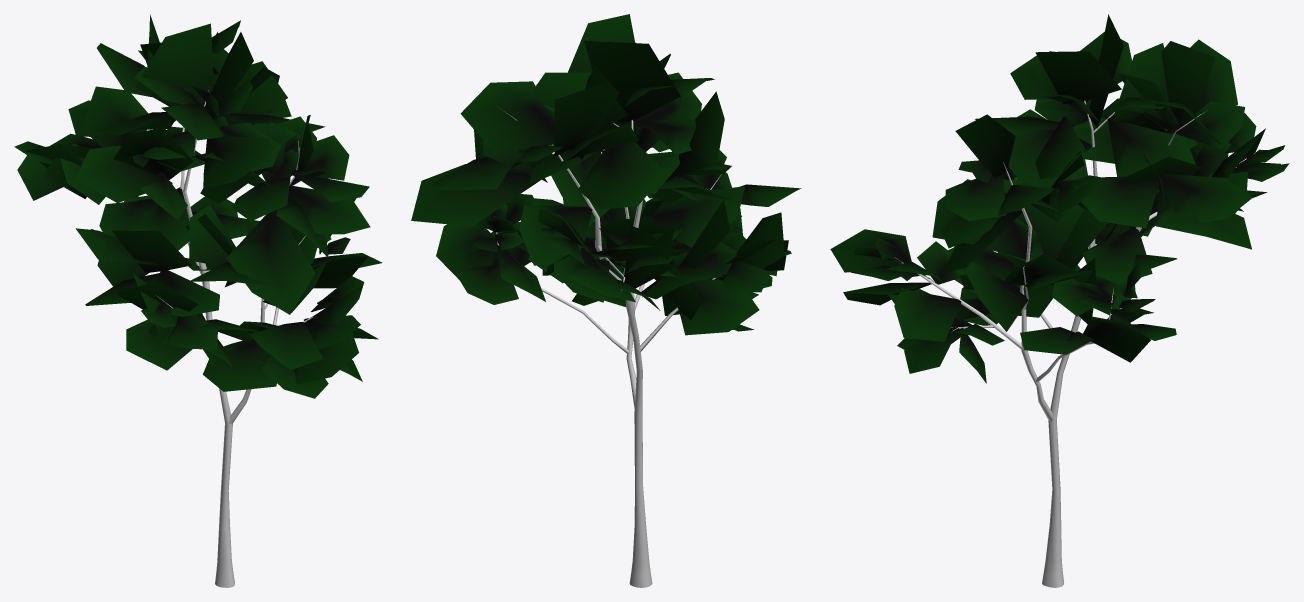
File: Jatoba_Tree1_afsTREE_xlprl_xlt_xlod02.fbx
3 renders of one model, left to right at view 1: azimuth 30°, elevation 25°; view 2: azimuth 150°, elevation 25°; view 3: azimuth 270°, elevation 25°, orthographic. The views are drawn at different scales.
Visible parts, largest first — view 1: leaf_104, leaf_180, leaf_140, trunk, leaf_160, leaf_001, leaf_125, leaf_116, leaf_014, leaf_198, leaf_138, leaf_212 (+44 smaller); view 2: leaf_173, leaf_180, leaf_221, leaf_100, trunk, leaf_026, leaf_187, leaf_103, leaf_119, leaf_198, leaf_078, leaf_113 (+30 smaller); view 3: leaf_113, leaf_229, trunk, leaf_147, leaf_179, leaf_059, leaf_187, leaf_118, leaf_100, leaf_143, leaf_115, leaf_106 (+38 smaller).
Part boxes in pixels (x1,y1,x2,y2): leaf_104: (226,210,315,314); leaf_180: (136,23,213,106); leaf_140: (75,145,172,202); trunk: (183,90,234,587); leaf_160: (203,136,269,188); leaf_001: (203,338,276,391); leaf_125: (81,86,148,147); leaf_116: (289,185,370,234); leaf_014: (249,322,323,369); leaf_198: (113,127,193,179); leaf_138: (112,230,191,272); leaf_212: (189,205,235,265); leaf_173: (460,81,554,152); leaf_180: (584,41,680,122); leaf_221: (578,141,666,209); leaf_100: (411,164,540,226); trunk: (623,120,652,587); leaf_026: (678,279,759,335); leaf_187: (554,83,628,156); leaf_103: (640,186,744,247); leaf_119: (519,204,592,265); leaf_198: (665,91,724,181); leaf_078: (436,224,510,279); leaf_113: (432,151,520,190); leaf_113: (1155,173,1252,222); leaf_229: (1107,117,1195,176); trunk: (1042,100,1097,587); leaf_147: (1081,176,1159,228); leaf_179: (1035,51,1121,103); leaf_059: (894,288,961,341); leaf_187: (1161,41,1215,127); leaf_118: (1082,227,1152,284); leaf_100: (1156,184,1251,249); leaf_143: (955,114,1015,176); leaf_115: (945,174,1006,221); leaf_106: (966,262,1028,331).
Size of what is drawn, in the model's own units: 16.4 by 30.47 by 22.95.
